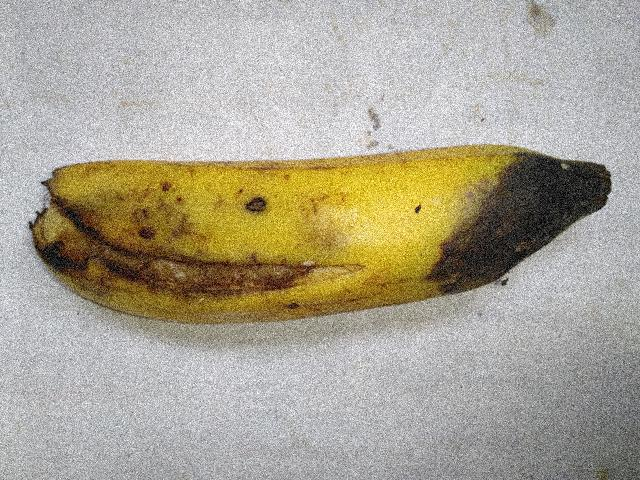rotten: (31, 175, 328, 323), (417, 129, 631, 328)
